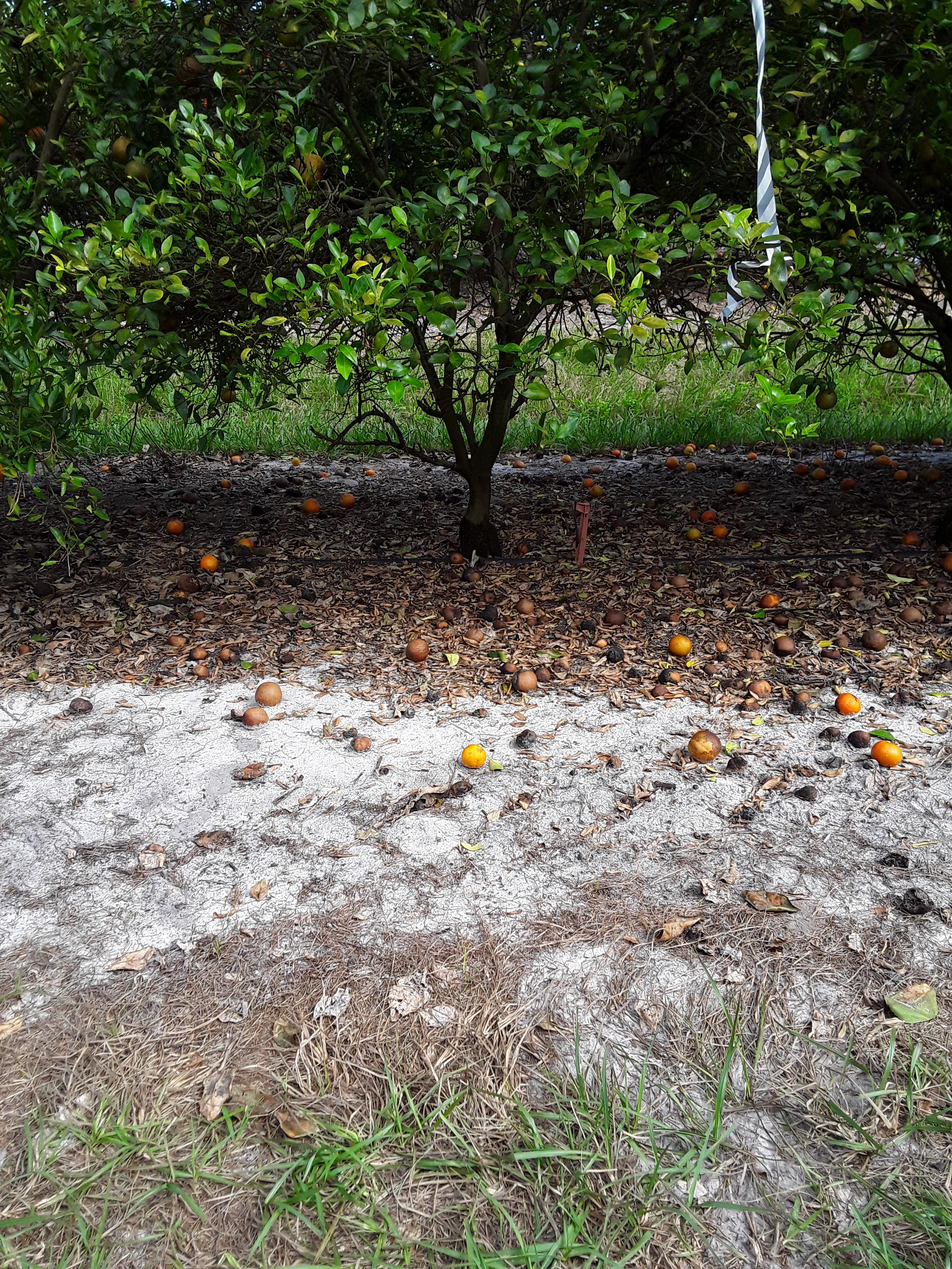fruit_on_ground: (290, 149, 327, 186), (276, 13, 307, 49), (174, 54, 203, 91), (125, 154, 154, 187), (910, 136, 943, 164), (22, 121, 52, 151), (816, 385, 840, 413), (111, 135, 135, 162), (878, 336, 900, 365), (219, 388, 236, 409)
fruit_on_tree: (692, 732, 722, 768), (669, 633, 695, 664), (256, 679, 280, 710), (876, 738, 901, 767), (410, 638, 432, 669), (863, 629, 887, 657), (461, 740, 481, 769), (840, 693, 861, 719), (517, 672, 538, 697), (789, 692, 810, 716), (240, 705, 261, 727), (779, 638, 798, 661), (892, 467, 915, 485), (791, 461, 810, 481), (852, 731, 871, 751), (811, 466, 830, 485), (237, 535, 254, 556), (520, 596, 537, 617), (578, 474, 600, 490), (900, 528, 917, 548), (763, 590, 780, 610), (843, 477, 859, 498), (732, 480, 750, 498), (805, 454, 824, 471), (700, 506, 717, 525), (167, 515, 184, 534), (589, 477, 604, 498), (303, 500, 318, 521), (201, 556, 216, 577), (872, 451, 889, 469), (588, 462, 606, 479), (712, 525, 728, 544), (684, 529, 700, 548), (885, 458, 903, 474), (344, 495, 359, 514), (681, 442, 698, 458), (353, 736, 368, 754), (865, 441, 884, 455), (830, 447, 846, 463), (228, 451, 244, 467), (509, 457, 526, 472), (937, 552, 950, 571), (287, 452, 303, 467), (684, 462, 699, 477), (557, 451, 572, 465), (218, 478, 231, 494), (366, 461, 380, 475), (931, 436, 944, 450), (746, 450, 759, 464), (362, 462, 375, 476), (610, 450, 623, 463), (706, 442, 717, 457), (319, 468, 331, 481), (668, 455, 679, 468)
